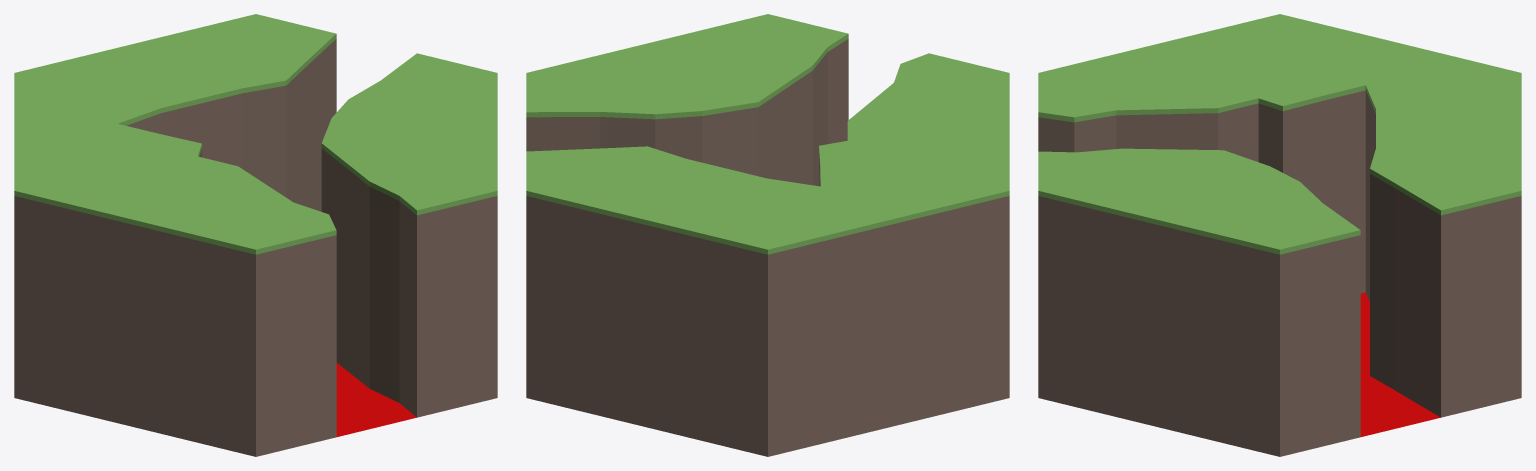
File: tile_Lava02.fbx
3 views of the same model, side by side, from view 1: azimuth 30°, elevation 25°; view 2: azimuth 150°, elevation 25°; view 3: azimuth 270°, elevation 25° (orthographic).
Parts seen in each view (by area): view 1: Tile15; view 2: Tile15; view 3: Tile15.
Part boxes in pixels (x1=…): Tile15: x1=14, y1=14, x2=497, y2=456; Tile15: x1=526, y1=14, x2=1009, y2=456; Tile15: x1=1038, y1=14, x2=1521, y2=456.
Bounding box in the file's own units: 2 × 0.82 × 1.73.
